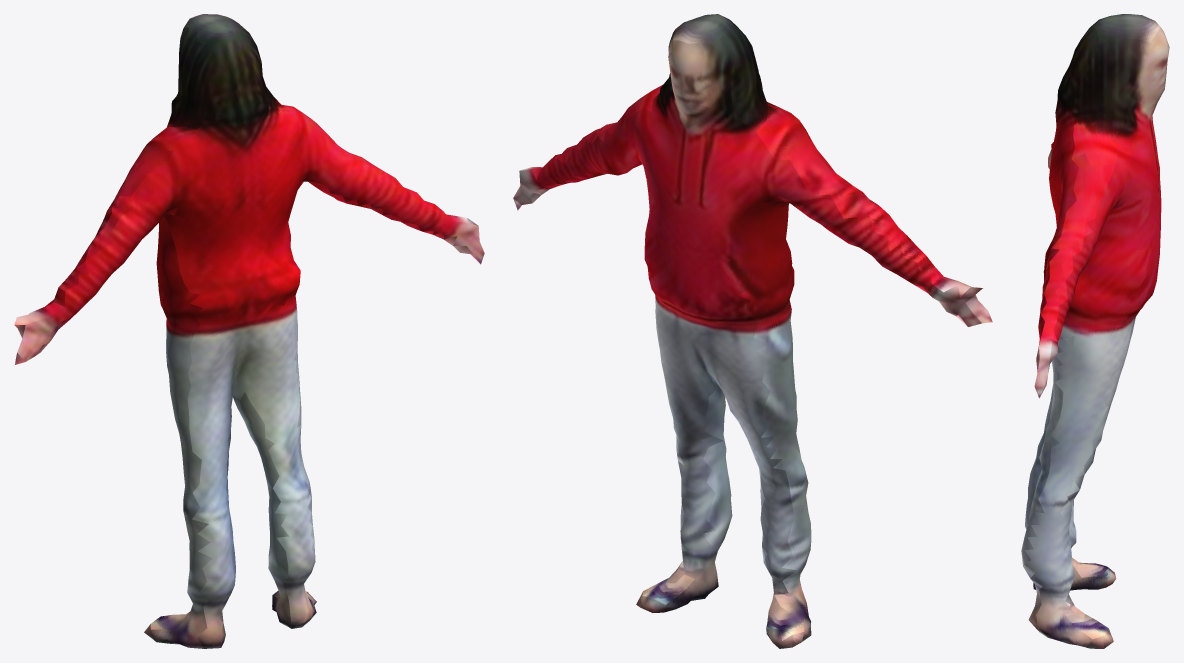
3 views of the same model, side by side, from view 1: azimuth 30°, elevation 25°; view 2: azimuth 150°, elevation 25°; view 3: azimuth 270°, elevation 25° (orthographic). The views are drawn at different scales.
Parts seen in each view (by area): view 1: world; view 2: world; view 3: world.
Boxes of the visible parts, box(x1,y1,x2,y2) form: world: box(14, 14, 484, 648); world: box(513, 14, 992, 648); world: box(1021, 14, 1169, 648).
Bounding box in the file's own units: 0.8226 × 1.01 × 0.2267.
1 material, 1 textured.
